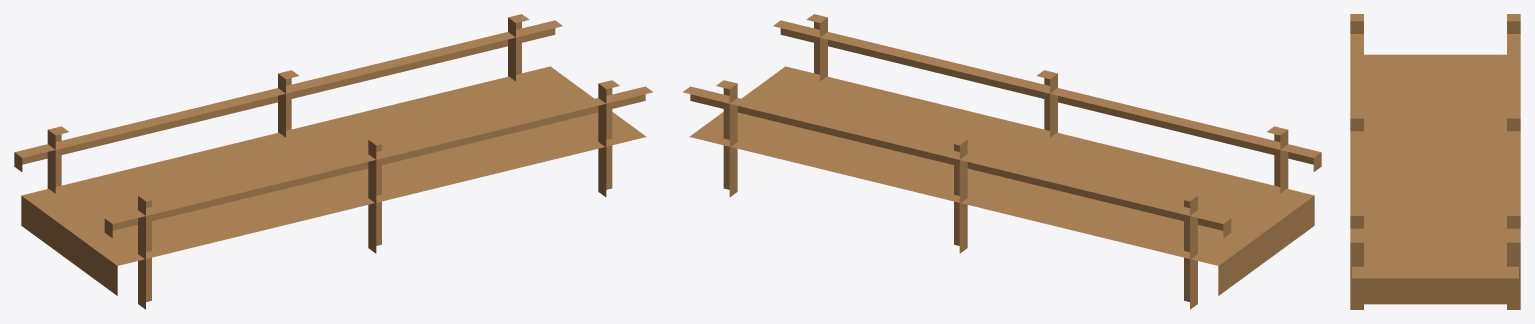
Rendered from footbridge.glb.
3 renders of one model, left to right at view 1: azimuth 30°, elevation 25°; view 2: azimuth 150°, elevation 25°; view 3: azimuth 270°, elevation 25°, orthographic. The views are drawn at different scales.
Size of the model in its own units: 4.7 by 0.9 by 1.48.
